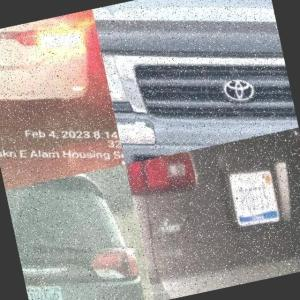Plate: (226, 167, 276, 224), (25, 283, 60, 300), (0, 27, 9, 62)
